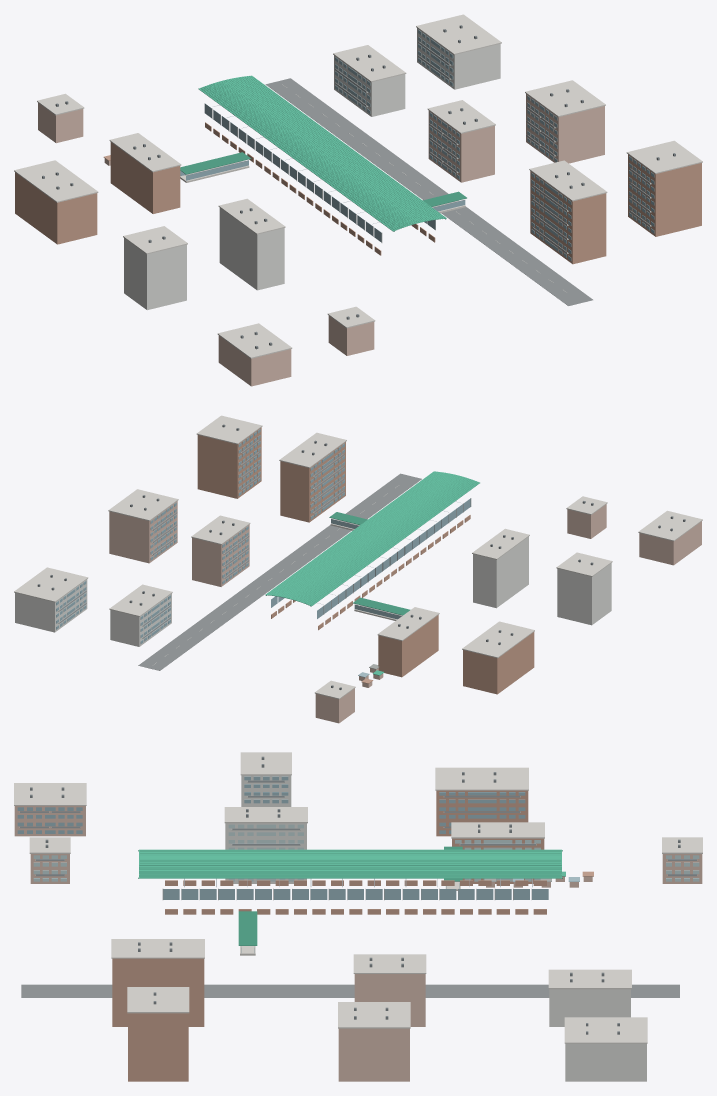
3 views of the same model, one above another, from view 1: azimuth 30°, elevation 25°; view 2: azimuth 150°, elevation 25°; view 3: azimuth 270°, elevation 25° (orthographic). The views are drawn at different scales.
Parts seen in each view (by area): view 1: Station 4 photo-informed architecture and surroundings; view 2: Station 4 photo-informed architecture and surroundings; view 3: Station 4 photo-informed architecture and surroundings.
Part boxes in pixels (bbox=[...]): Station 4 photo-informed architecture and surroundings: bbox=[14, 14, 702, 386]; Station 4 photo-informed architecture and surroundings: bbox=[14, 415, 702, 723]; Station 4 photo-informed architecture and surroundings: bbox=[14, 752, 702, 1081].
Bounding box in the file's own units: 240 × 30.69 × 262.
